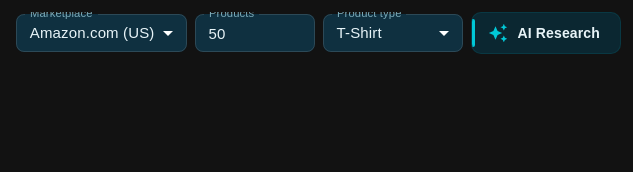
Test: ResearchTriggerButton › product limit input › falls back to 50 when input is cleared
Clear the number field labelled "Products" at (254, 33), box [194,14,314,52]
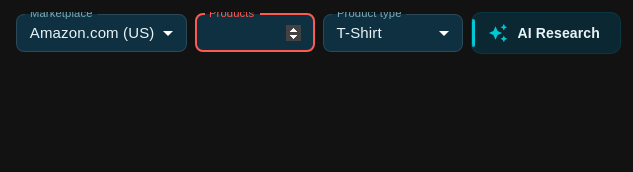
Press Tab
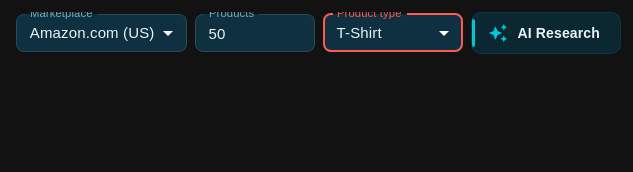
expect the number field labelled "Products" holds "50": met, box [194,14,314,52]
